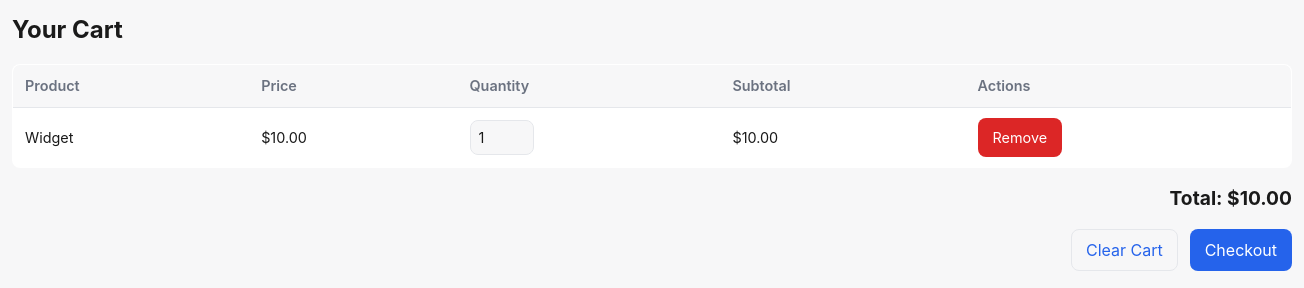
it: Cart › updates the subtotal and total when quantity changes
Replace the text in the number field named "quantity for widget" with "4". click: (502, 137)
box: [470,120,534,155]
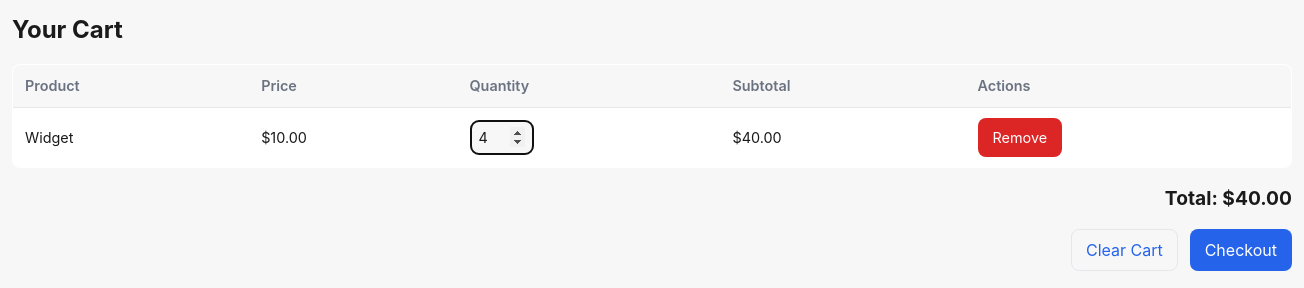
Expected: the text with test id "cart-total" reads "Total: $40.00", [1165,186,1292,210]
